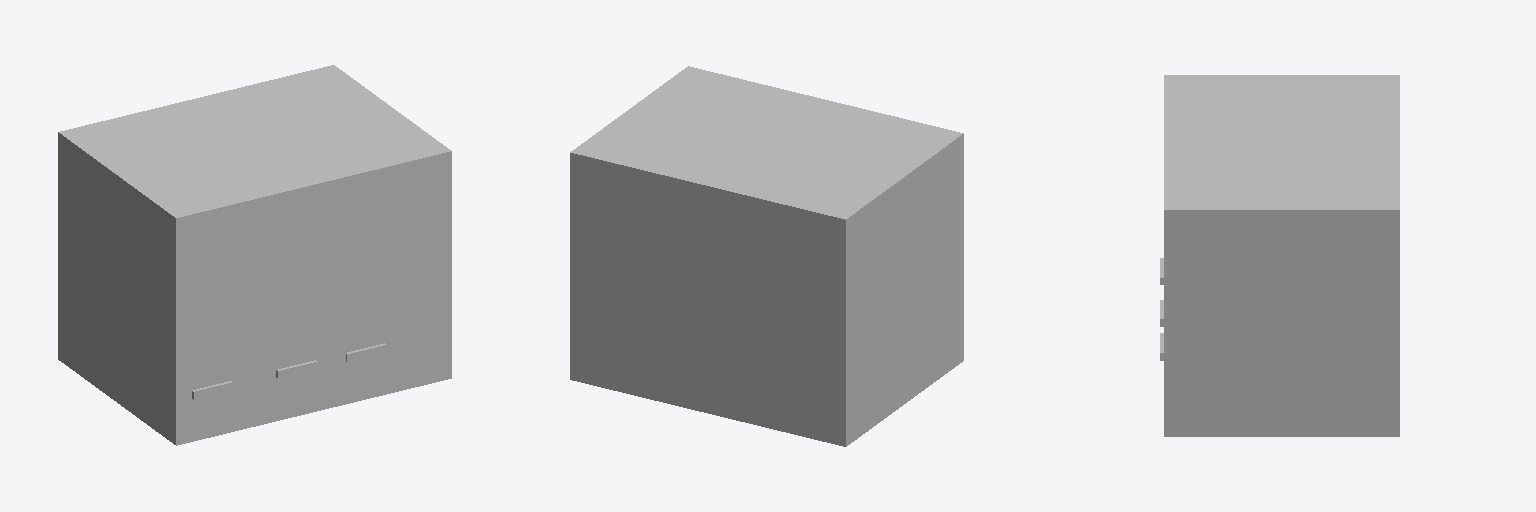
File: lvl5.obj
The picture shows the model from 3 angles: view 1: azimuth 30°, elevation 25°; view 2: azimuth 150°, elevation 25°; view 3: azimuth 270°, elevation 25°; orthographic projection.
Visible parts, largest first — view 1: Cube.005_Cube.012; view 2: Cube.005_Cube.012; view 3: Cube.005_Cube.012.
Boxes of the visible parts, x1,y1,x2,y2 form: Cube.005_Cube.012: [58, 65, 451, 445]; Cube.005_Cube.012: [570, 66, 963, 446]; Cube.005_Cube.012: [1160, 75, 1399, 436].
Bounding box in the file's own units: 73.47 × 57.9 × 55.29.